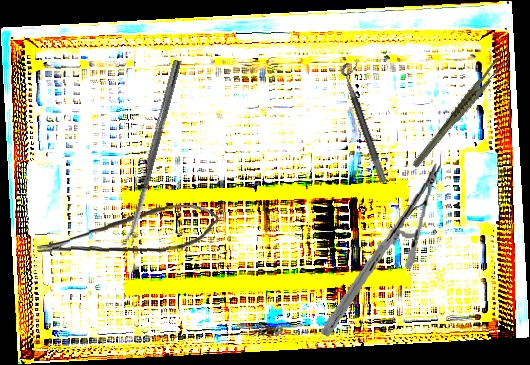Fixation Ring: (338, 59, 398, 184)
Micro Scissor: (35, 200, 220, 260)
Needle Holder: (320, 154, 443, 346)
Surgical Spoon: (123, 59, 182, 246)
Tissue Forceps: (395, 56, 521, 169)
